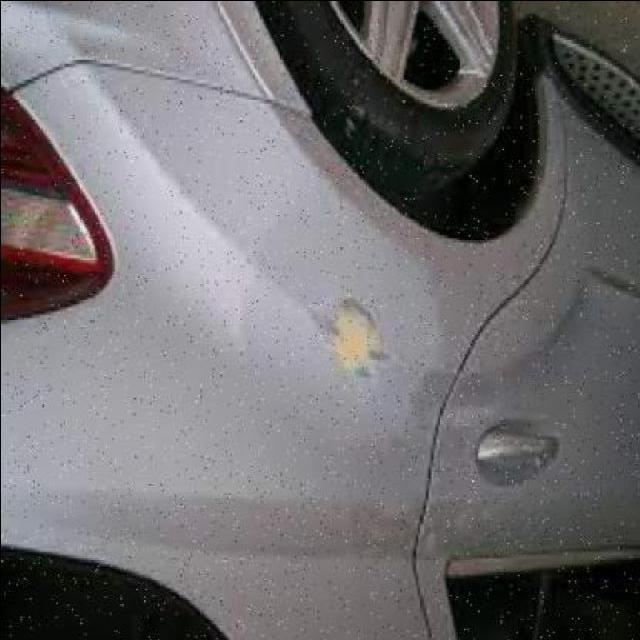quaterpanel-dent: (92, 115, 505, 478)
